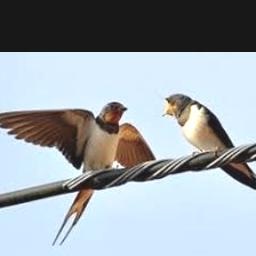Swallow: (0, 102, 158, 245), (162, 95, 256, 191)
